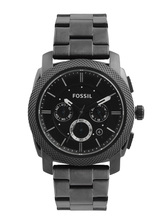watch: (25, 13, 145, 211)
